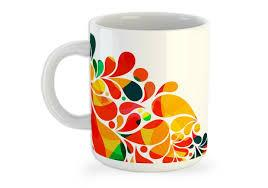Mug: (28, 8, 242, 175)
